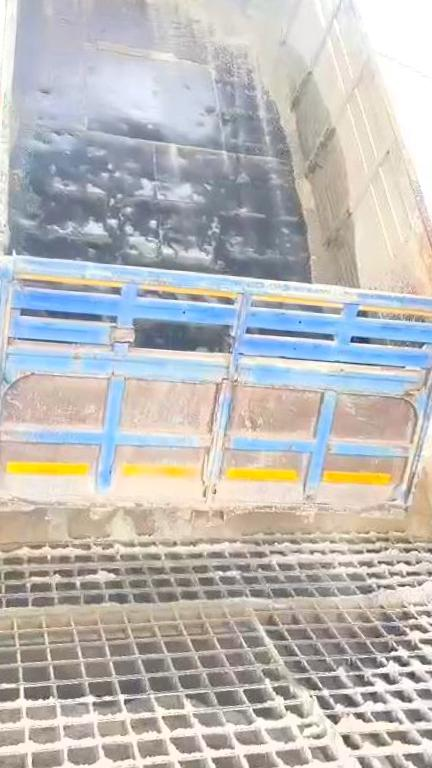sand: (29, 0, 338, 280), (0, 581, 432, 629), (270, 470, 432, 546), (297, 689, 383, 768)
